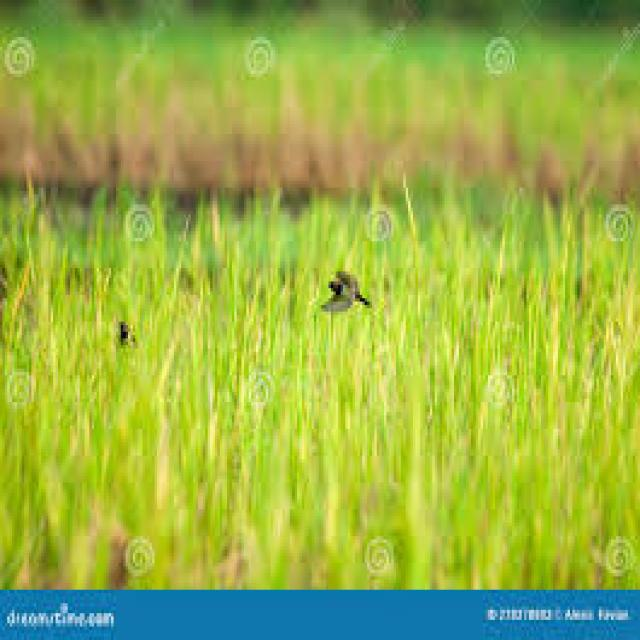bird: (318, 268, 373, 318)
